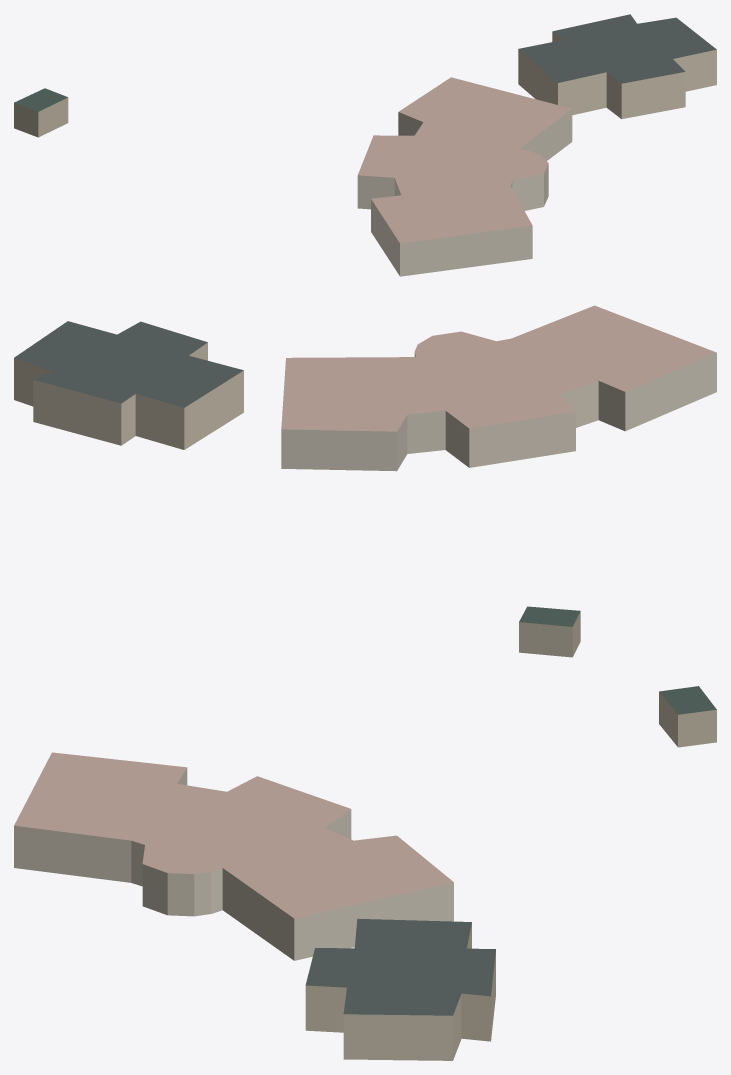
3 views of the same model, one above another, from view 1: azimuth 30°, elevation 25°; view 2: azimuth 150°, elevation 25°; view 3: azimuth 270°, elevation 25° (orthographic). The views are drawn at different scales.
Visible parts, largest first — view 1: tuile; view 2: tuile; view 3: tuile.
Boxes of the visible parts, x1,y1,x2,y2 form: tuile: [14, 14, 716, 276]; tuile: [14, 305, 716, 657]; tuile: [14, 686, 716, 1060].
Size of the model in its own units: 96.6 by 7.05 by 81.51.
